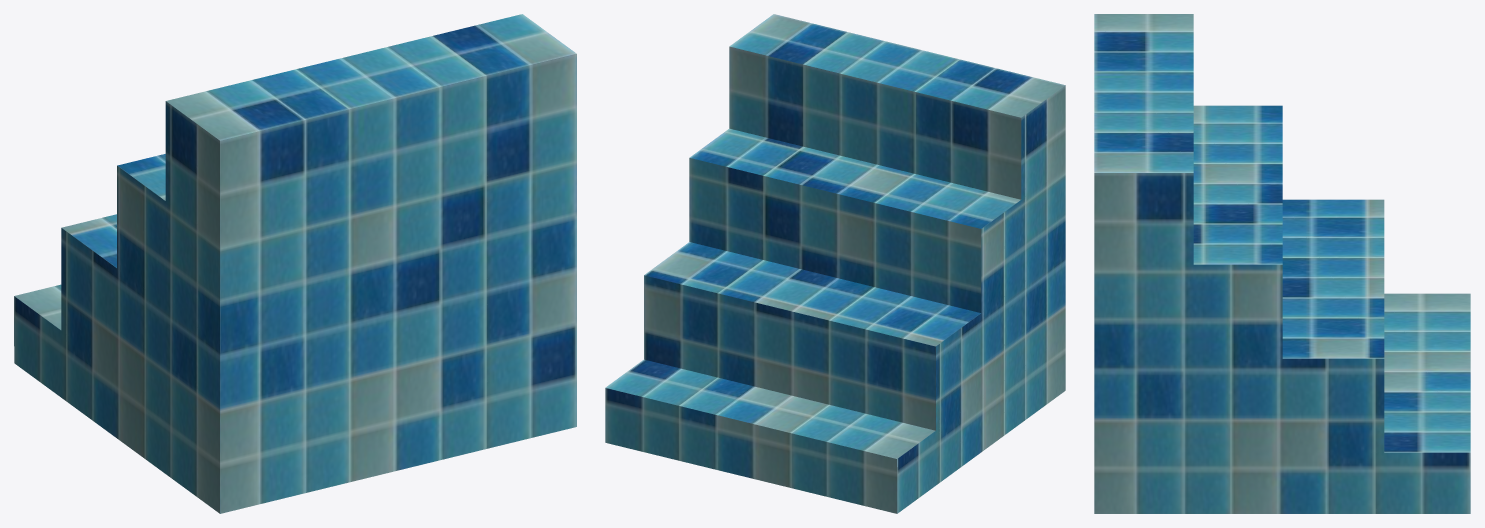
File: POL0510007.fbx
3 views of the same model, side by side, from view 1: azimuth 30°, elevation 25°; view 2: azimuth 150°, elevation 25°; view 3: azimuth 270°, elevation 25° (orthographic). The views are drawn at different scales.
Visible parts, largest first — view 1: smPOL0510007; view 2: smPOL0510007; view 3: smPOL0510007.
Boxes of the visible parts, x1,y1,x2,y2 form: smPOL0510007: [14, 14, 576, 513]; smPOL0510007: [605, 14, 1065, 513]; smPOL0510007: [1094, 14, 1470, 513].
Bounding box in the file's own units: 161 × 161 × 161.
Materials: 1 (1 with a texture image).
